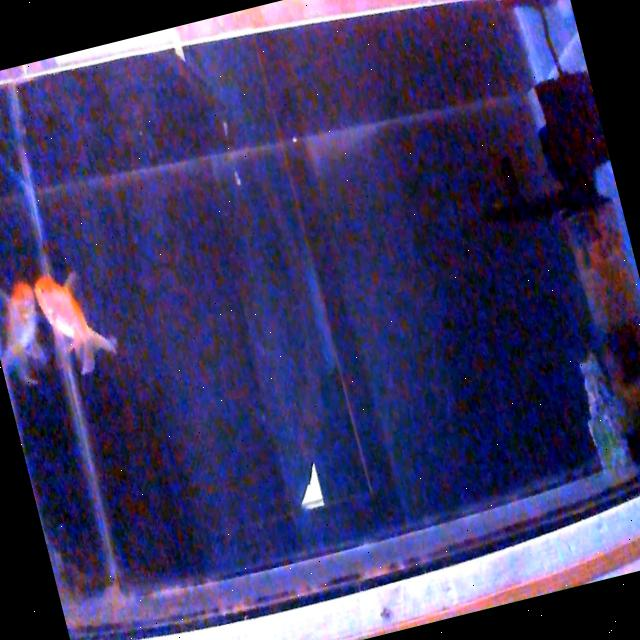fish: (29, 259, 122, 382), (0, 277, 56, 391)
